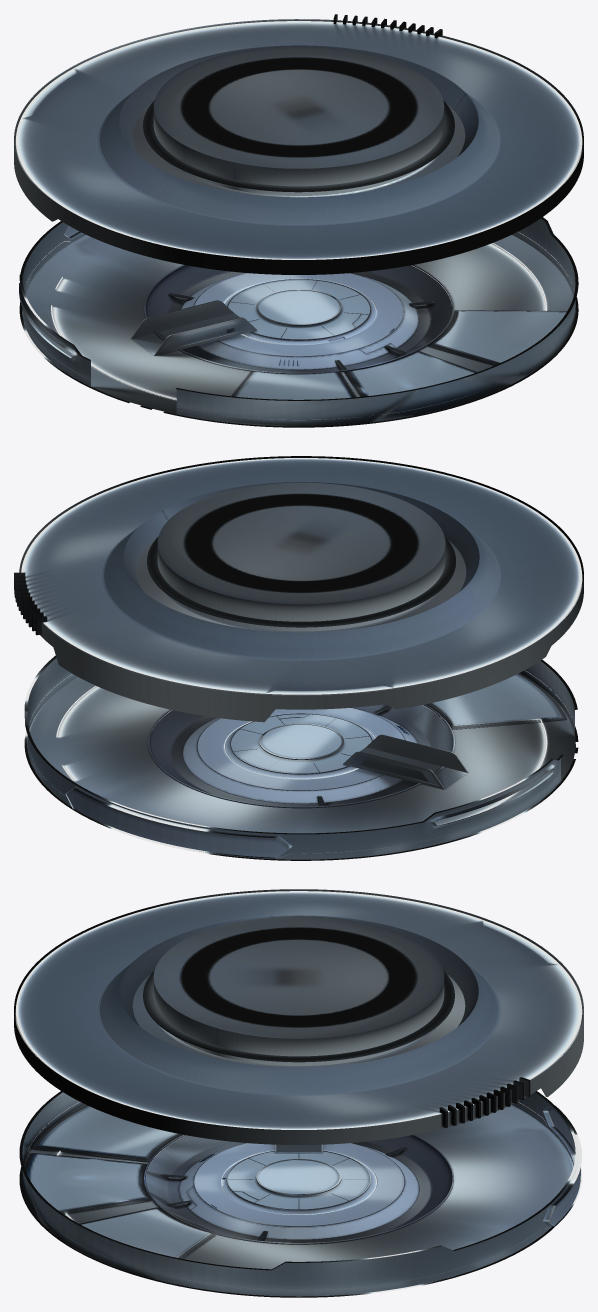
The model's file is sci-fi-stage-scene-baked.fbx.
3 renders of one model, top to bottom at view 1: azimuth 30°, elevation 25°; view 2: azimuth 150°, elevation 25°; view 3: azimuth 270°, elevation 25°, orthographic.
Visible parts, largest first — view 1: Ceiling_Material.001_0, Ground_Material.002_0; view 2: Ceiling_Material.001_0, Ground_Material.002_0; view 3: Ceiling_Material.001_0, Ground_Material.002_0.
Part boxes in pixels (x1,y1,x2,y2): Ceiling_Material.001_0: (14,14,583,274); Ground_Material.002_0: (19,217,578,427); Ceiling_Material.001_0: (14,456,583,722); Ground_Material.002_0: (24,655,578,860); Ceiling_Material.001_0: (14,889,583,1144); Ground_Material.002_0: (19,1091,582,1297).
Bounding box in the file's own units: 2400 × 985 × 2400.
2 materials, 2 textured.
